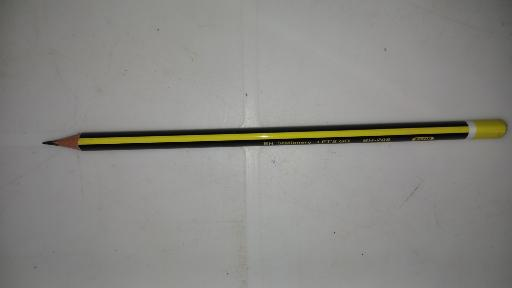Pencil: (42, 119, 508, 151)
